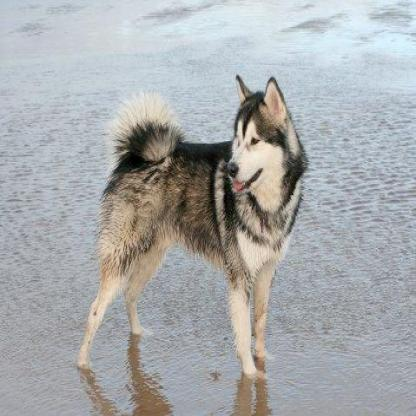malamute: (75, 74, 309, 376)
